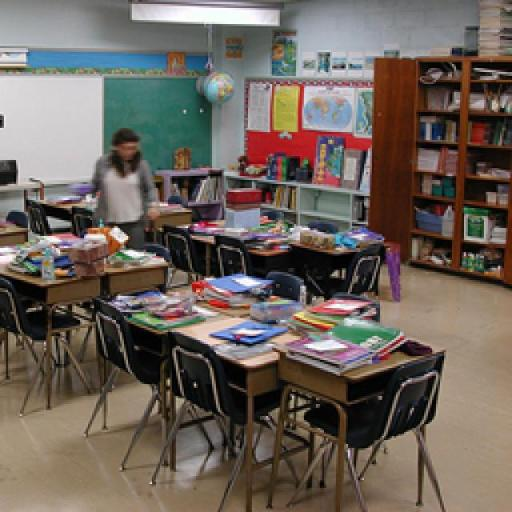person: (82, 114, 175, 261)
